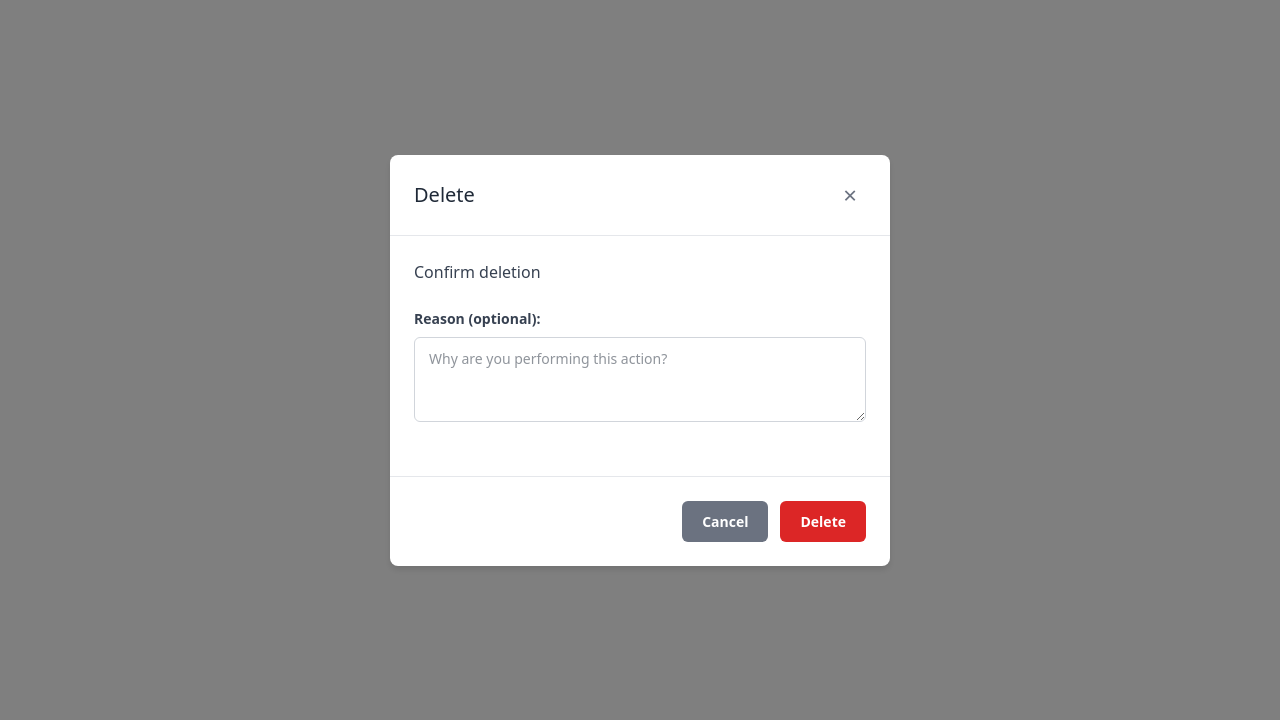
DeleteConfirmationModal › displays generic error message for non-Error exceptions
Click the button "Delete". click: x=823, y=521
box: x1=780 y1=500 x2=866 y2=542
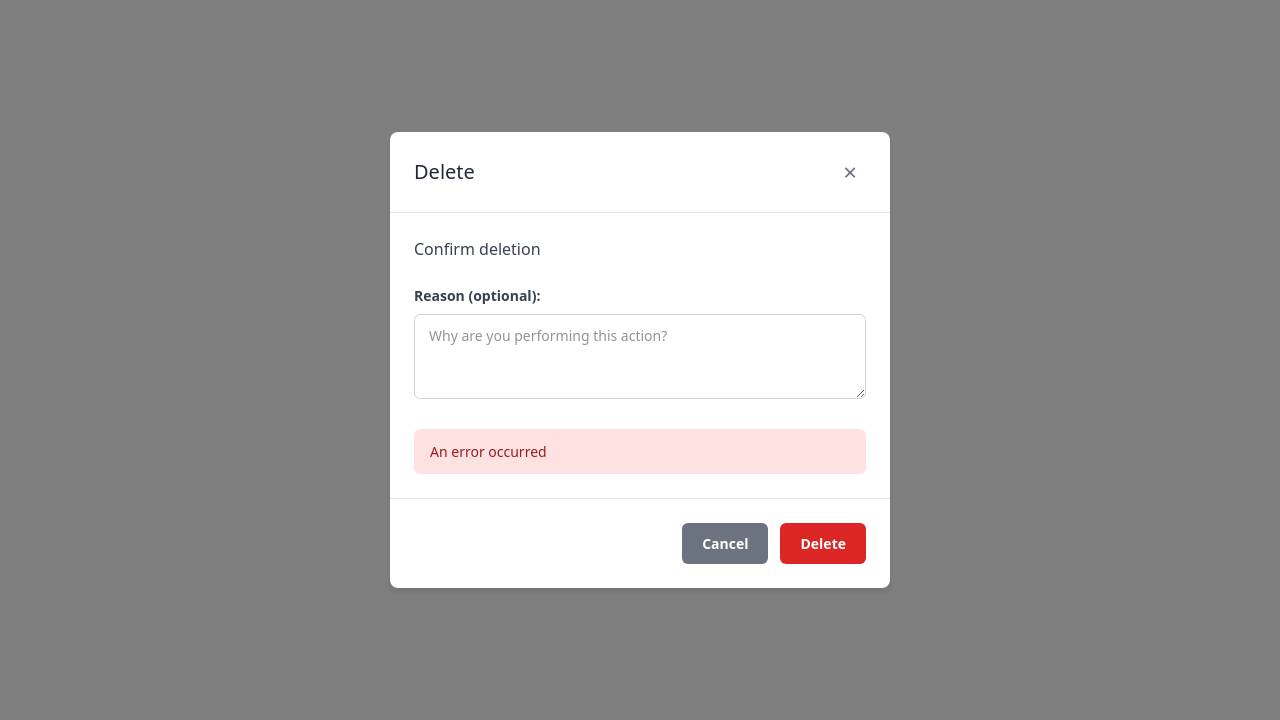
Check: the message reads "An error occurred", box x1=430 y1=442 x2=547 y2=461
